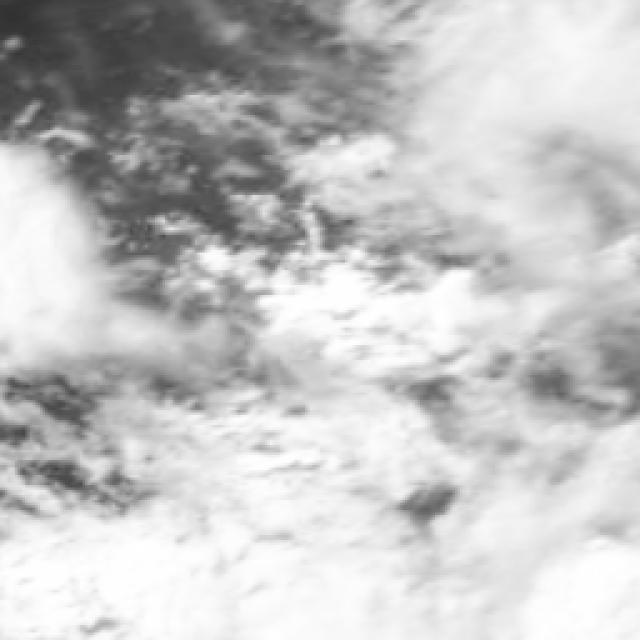CB: (185, 437, 382, 640), (435, 0, 640, 190), (470, 462, 640, 640), (48, 525, 228, 640), (0, 158, 71, 368), (313, 288, 457, 372)
